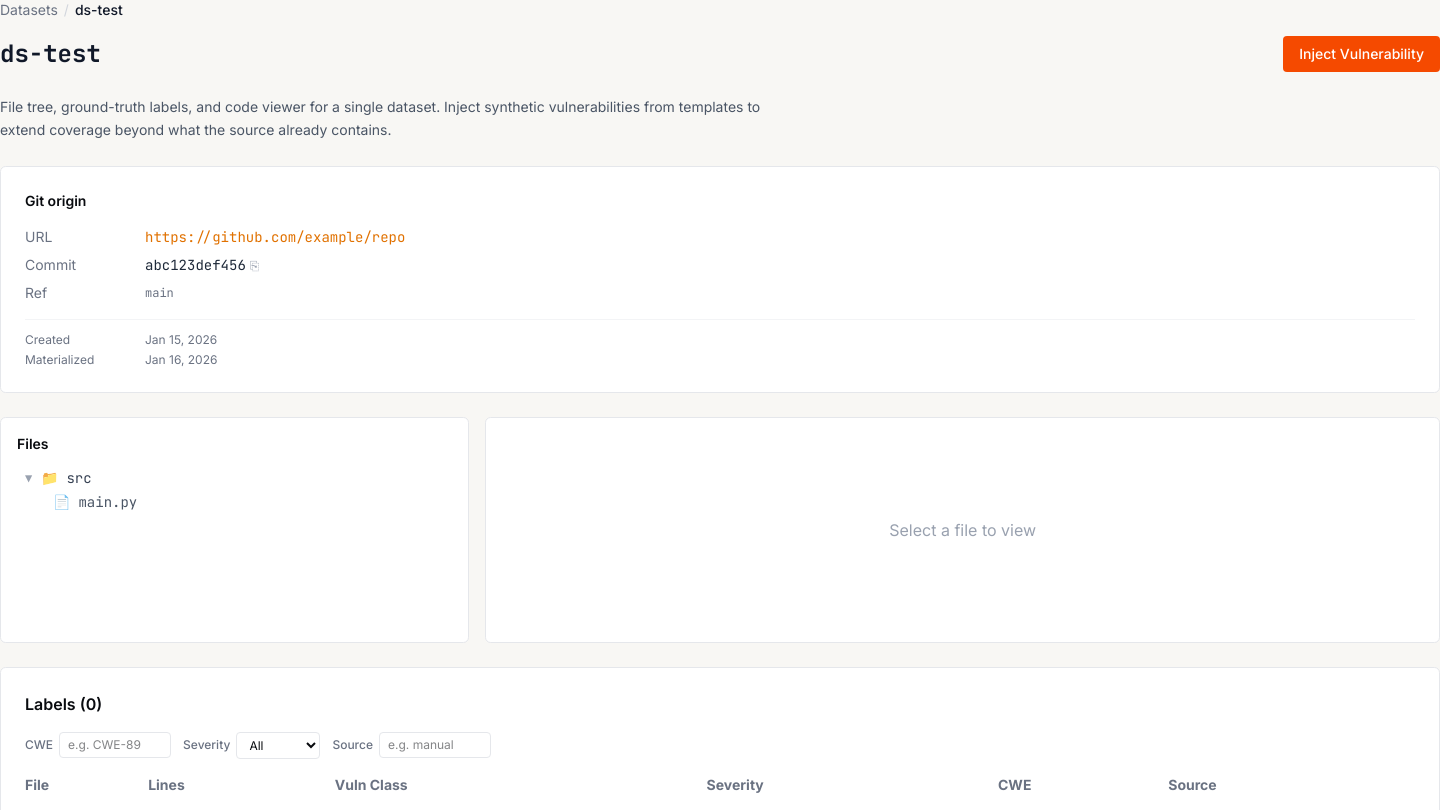
Test: DatasetDetail — injection workflow › advances to step 2 after selecting a template
Click the button "Inject Vulnerability" at (1362, 54), box x1=1283 y1=36 x2=1439 y2=72
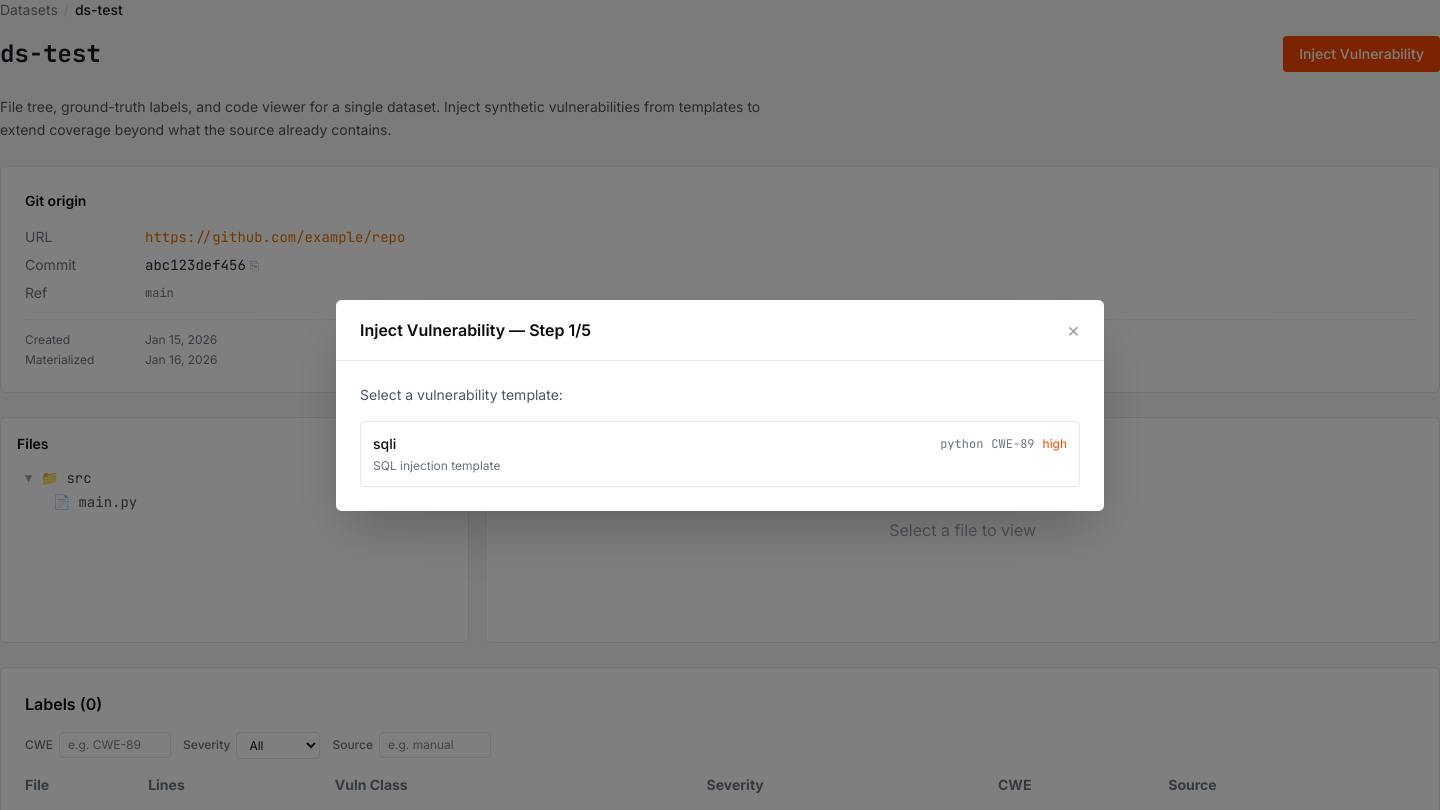
Now the text "sqli" is shown
Click the template button
Click the text "sqli" at (385, 444), box x1=373 y1=434 x2=396 y2=454
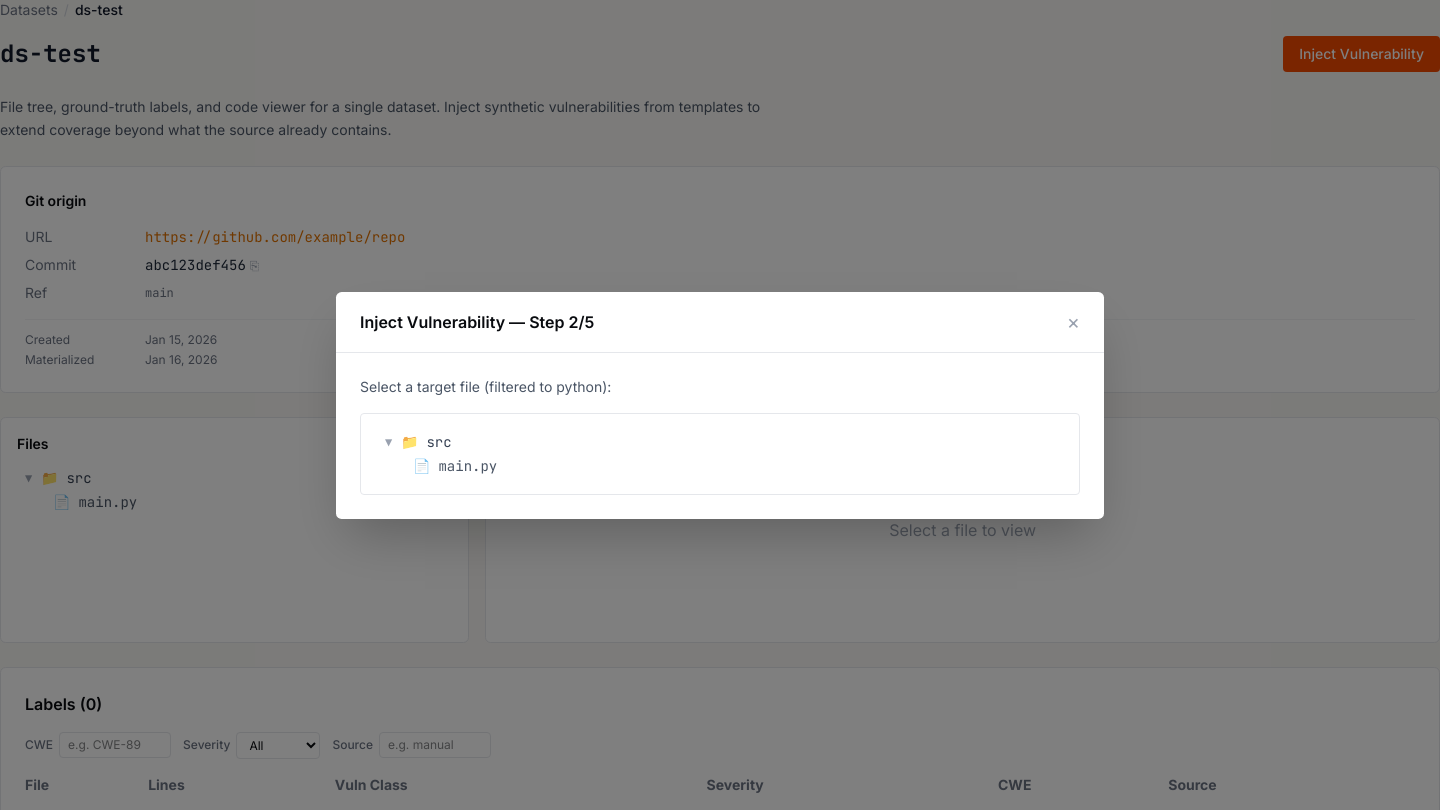
Now the heading "Inject Vulnerability — Step 2/5" is shown, box x1=360 y1=310 x2=594 y2=334
